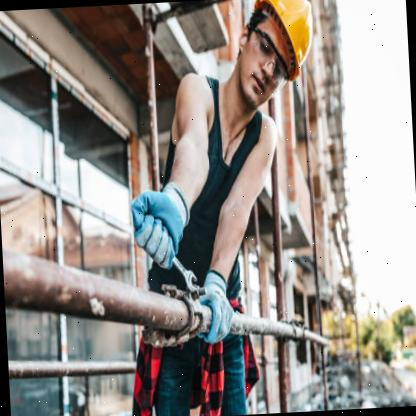capacete: (254, 0, 317, 82)
oculos: (248, 21, 292, 90)
